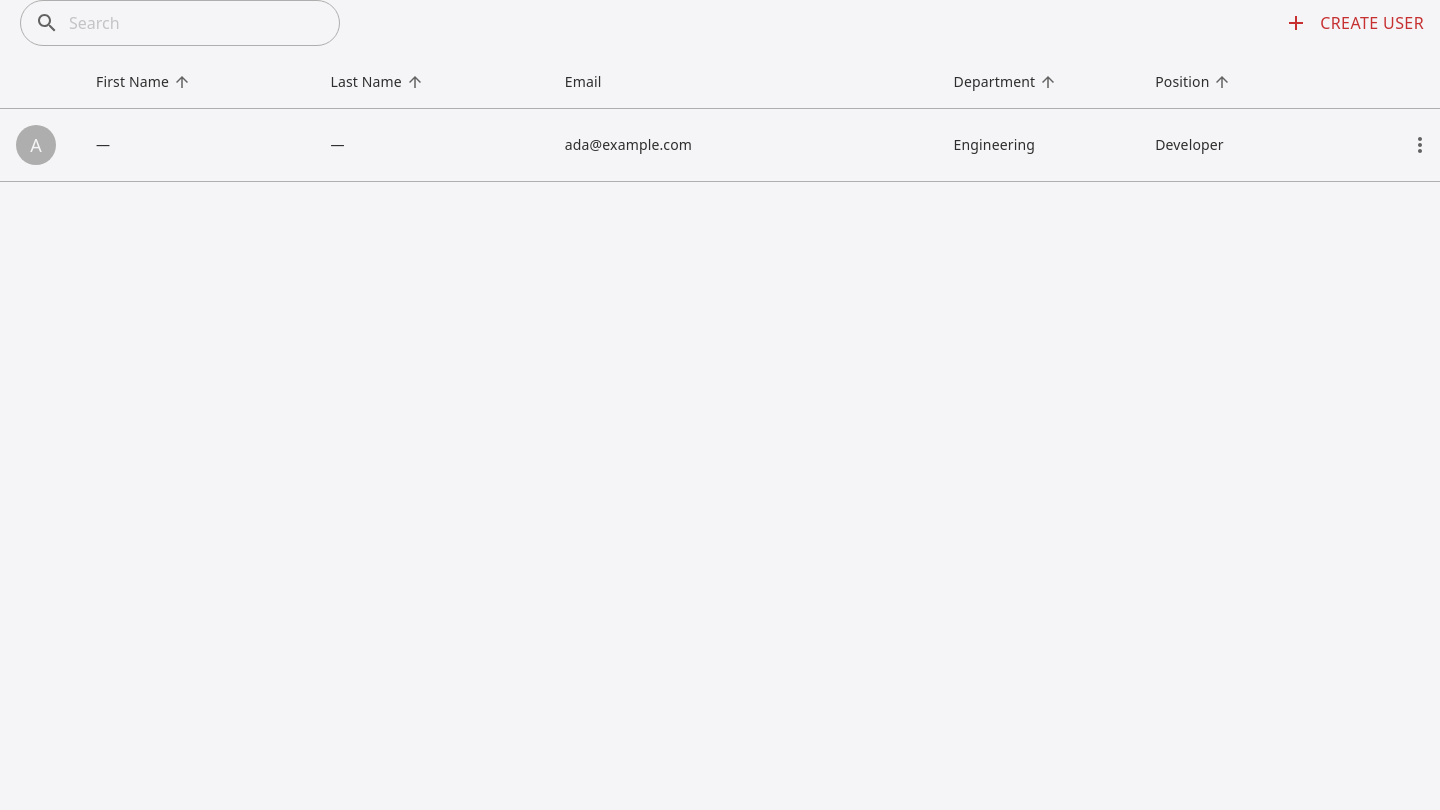
employees page › names the user by email in the delete dialog when the profile has no name
The image size is (1440, 810).
Click the button named "Actions for ada@example.com": (1420, 144) [1400,124,1439,164]
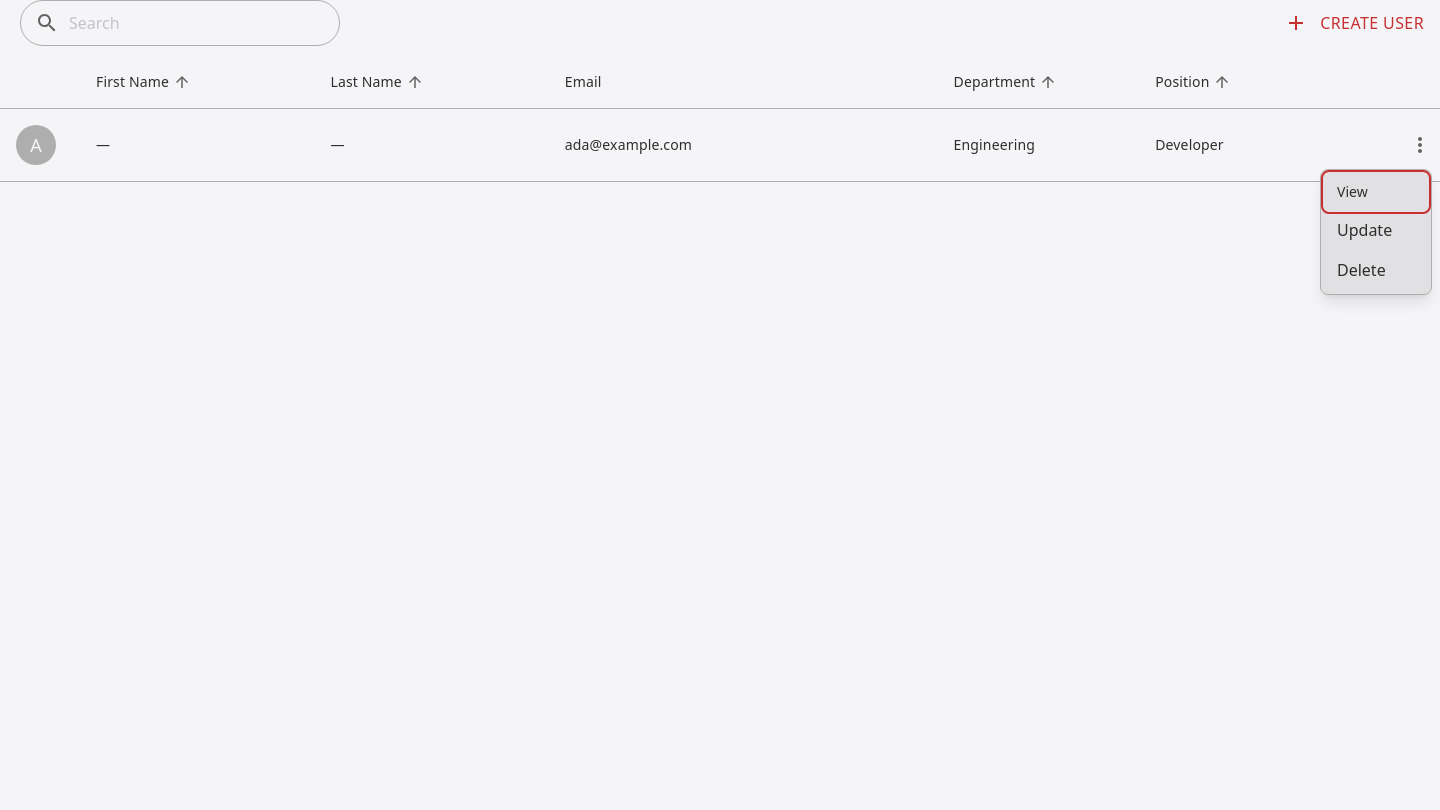
Click the menu item "Delete": (1376, 270) [1325,250,1427,290]
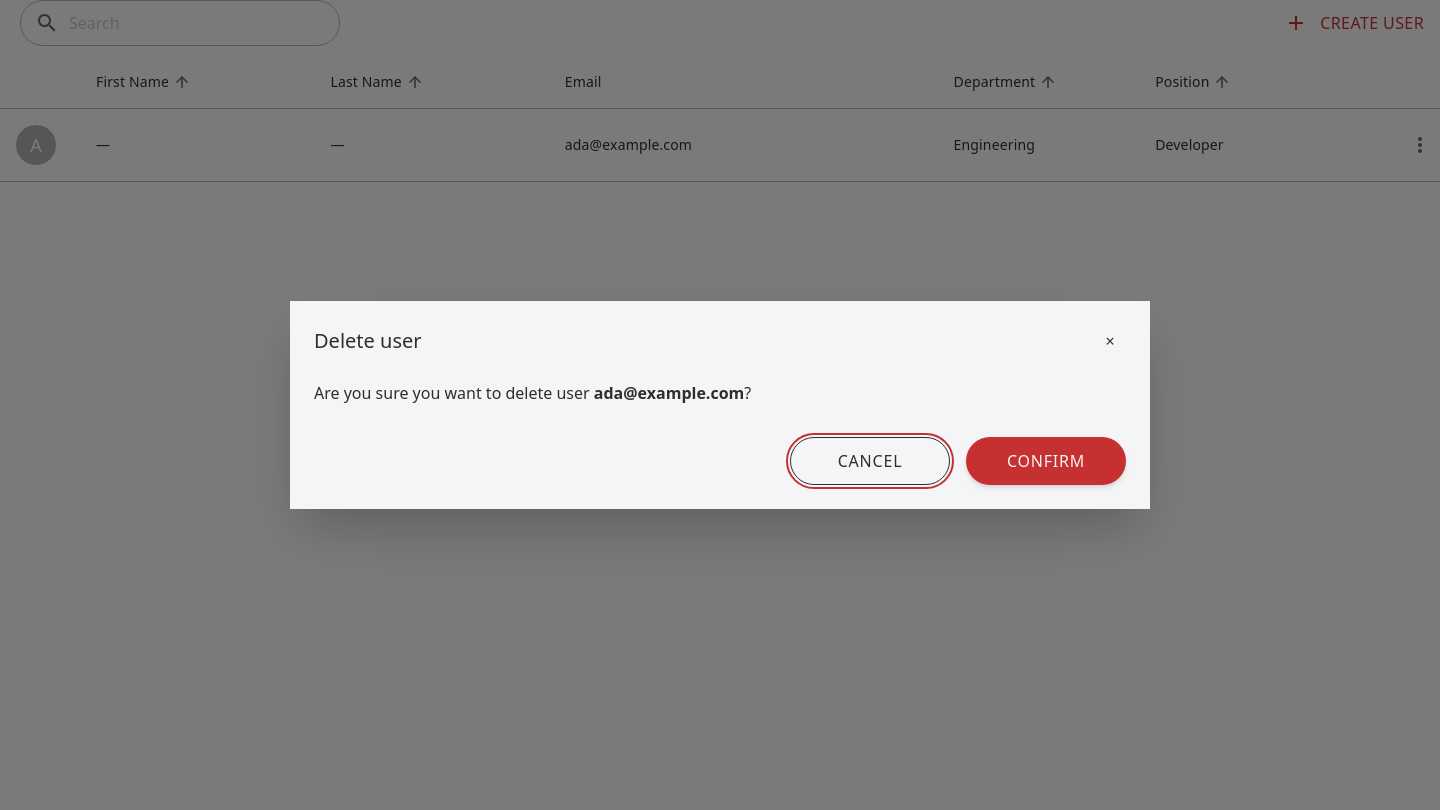
Expected: the dialog "Delete user" shows "delete user ada@example.com?", [290,301,1150,509]
